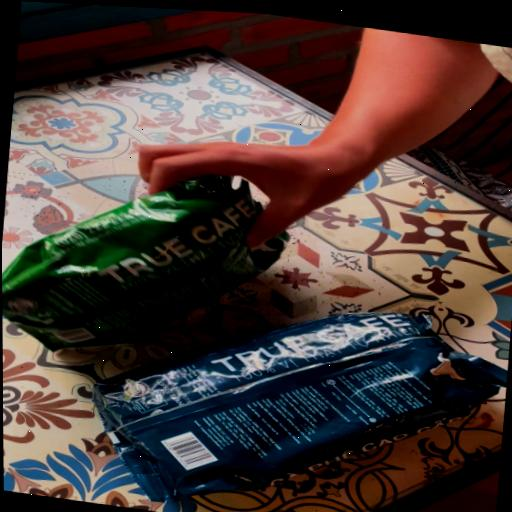cafe_hat: (92, 311, 508, 502)
cafe_xay: (2, 175, 289, 350)
